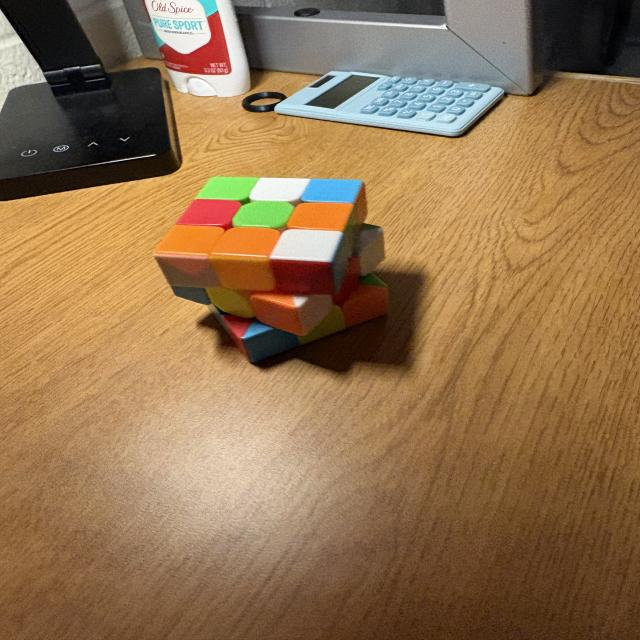Rubiks Cube: (153, 175, 388, 365)
